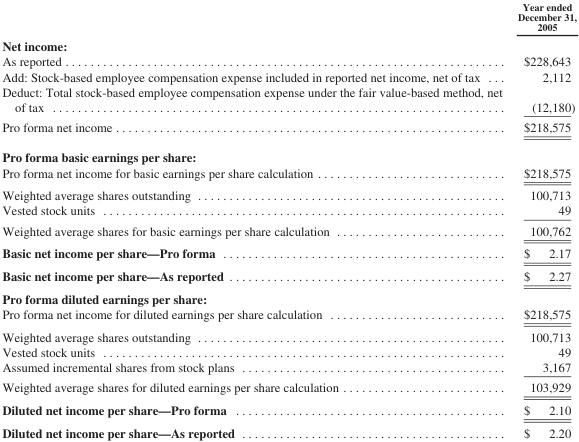table: (1, 0, 575, 439)
table column: (1, 0, 509, 439), (509, 0, 575, 439)
table column header: (1, 0, 575, 35)
table projected row header: (1, 141, 575, 164), (1, 287, 575, 306), (1, 35, 575, 53)
table row: (1, 0, 575, 35), (1, 83, 575, 116), (1, 116, 575, 141), (1, 141, 575, 164), (1, 241, 575, 264), (1, 264, 575, 287), (1, 376, 575, 398), (1, 398, 575, 420), (1, 220, 575, 241), (1, 164, 575, 183), (1, 183, 575, 202), (1, 287, 575, 306), (1, 306, 575, 325), (1, 325, 575, 344), (1, 420, 575, 439), (1, 35, 575, 53), (1, 202, 575, 220), (1, 359, 575, 376), (1, 53, 575, 68), (1, 68, 575, 83), (1, 344, 575, 359)
